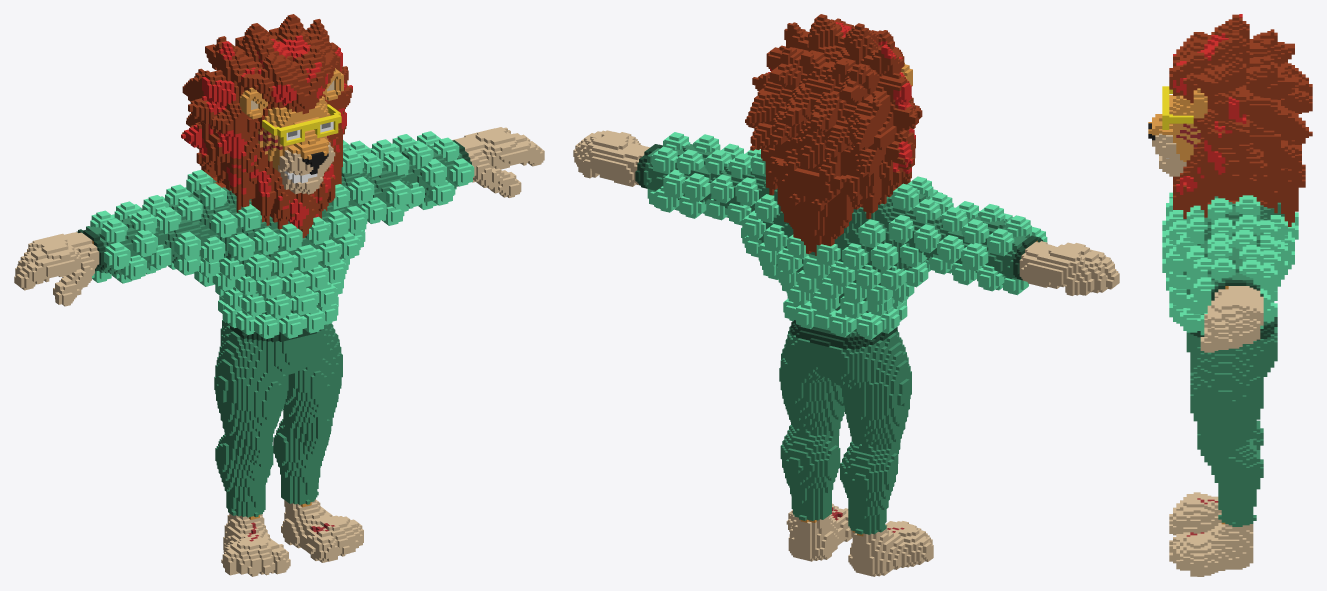
File: 362-tjHC0qRJ.fbx
3 views of the same model, side by side, from view 1: azimuth 30°, elevation 25°; view 2: azimuth 150°, elevation 25°; view 3: azimuth 270°, elevation 25° (orthographic). The views are drawn at different scales.
Parts seen in each view (by area): view 1: grin; view 2: grin; view 3: grin.
Part boxes in pixels (x1=…): grin: x1=14, y1=14, x2=544, y2=576; grin: x1=573, y1=14, x2=1119, y2=576; grin: x1=1148, y1=14, x2=1312, y2=576.
Size of the model in its own units: 17.2 by 16.5 by 4.7.
Materials: 5 (5 with a texture image).
